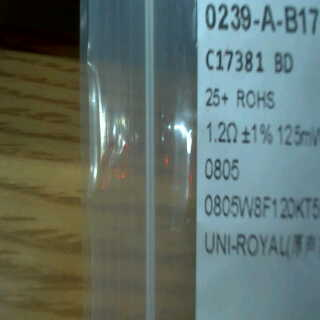1.2R: (201, 117, 244, 187)
